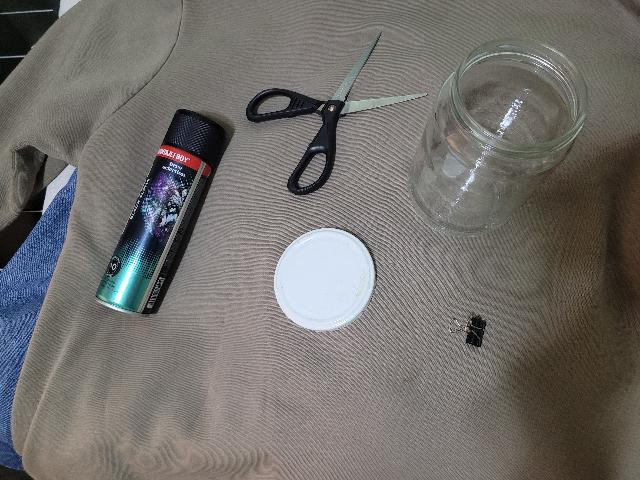Cam: (414, 37, 590, 234)
Metal: (91, 144, 218, 322), (336, 29, 433, 111), (448, 311, 491, 353)
Plastik: (272, 223, 376, 337), (160, 106, 238, 163), (287, 122, 344, 198), (244, 83, 325, 125)
